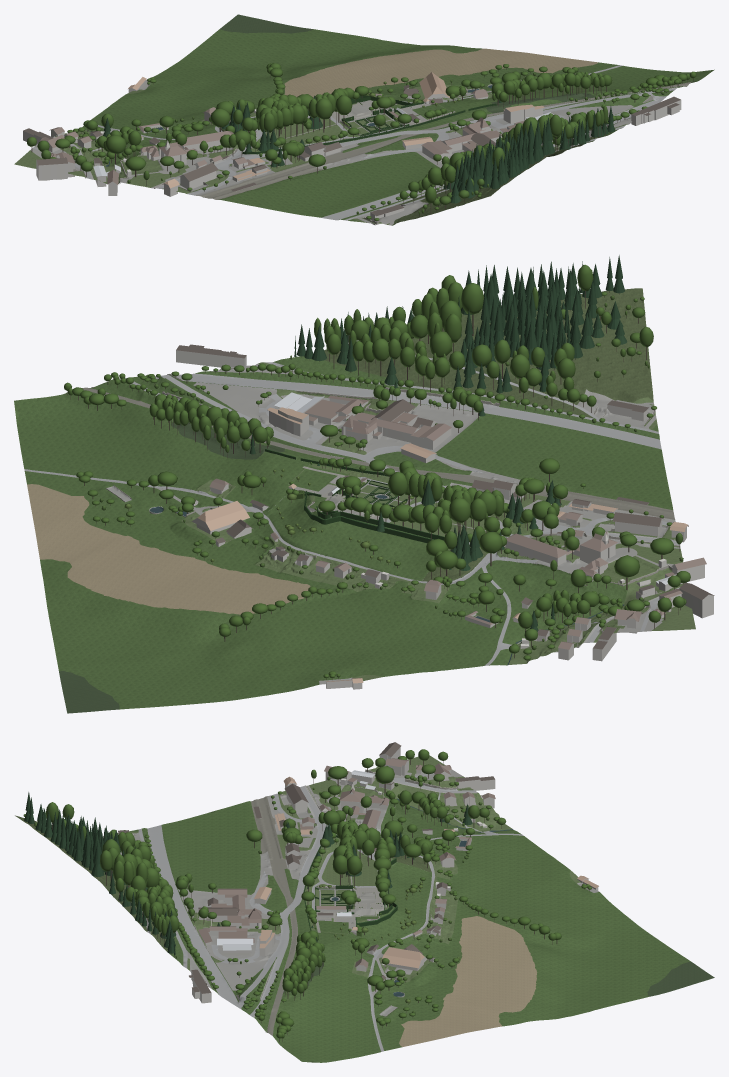
3 views of the same model, one above another, from view 1: azimuth 30°, elevation 25°; view 2: azimuth 150°, elevation 25°; view 3: azimuth 270°, elevation 25° (orthographic). The views are drawn at different scales.
Visible parts, largest first — view 1: lohn-ctx-terrain-meadow, lohn-ctx-terrain-field-soil, lohn-ctx-terrain-lawn, lohn-ctx-terrain-asphalt, lohn-ctx-terrain-gravel, lohn-ctx-terrain-ballast, lohn-ctx-terrain-field-crop, lohn-ctx-terrain-forest-floor, lohn-ctx-terrain-cobbles, lohn-ctx-bldg-egid-1412560-wall, lohn-ctx-bldg-egid-1411796-wall, lohn-ctx-hedge-1 (+5 smaller); view 2: lohn-ctx-terrain-meadow, lohn-ctx-terrain-field-soil, lohn-ctx-terrain-lawn, lohn-ctx-terrain-forest-floor, lohn-ctx-terrain-asphalt, lohn-ctx-terrain-gravel, lohn-ctx-terrain-field-crop, lohn-ctx-terrain-ballast, lohn-ctx-bldg-egid-1411722-roof, lohn-ctx-bldg-egid-502114511-roof, lohn-ctx-bldg-egid-1412560-wall, lohn-ctx-bldg-egid-1411738-roof (+1 smaller); view 3: lohn-ctx-terrain-meadow, lohn-ctx-terrain-field-soil, lohn-ctx-terrain-asphalt, lohn-ctx-terrain-lawn, lohn-ctx-terrain-gravel, lohn-ctx-terrain-ballast, lohn-ctx-terrain-field-crop, lohn-ctx-terrain-forest-floor, lohn-ctx-terrain-cobbles, lohn-ctx-bldg-egid-1411722-roof, lohn-ctx-terrain-under-building, lohn-ctx-bldg-egid-502114511-roof.
Boxes of the visible parts, x1,y1,x2,y2 form: lohn-ctx-terrain-meadow: (82, 29, 714, 221); lohn-ctx-terrain-field-soil: (284, 48, 597, 97); lohn-ctx-terrain-lawn: (14, 85, 627, 225); lohn-ctx-terrain-asphalt: (33, 65, 676, 220); lohn-ctx-terrain-gravel: (30, 79, 633, 225); lohn-ctx-terrain-ballast: (200, 81, 691, 199); lohn-ctx-terrain-field-crop: (220, 14, 597, 113); lohn-ctx-terrain-forest-floor: (221, 124, 609, 224); lohn-ctx-terrain-cobbles: (285, 97, 455, 138); lohn-ctx-bldg-egid-1412560-wall: (631, 100, 681, 125); lohn-ctx-bldg-egid-1411796-wall: (36, 159, 67, 180); lohn-ctx-hedge-1: (242, 110, 465, 154); lohn-ctx-terrain-meadow: (14, 356, 673, 709); lohn-ctx-terrain-field-soil: (27, 484, 310, 614); lohn-ctx-terrain-lawn: (181, 362, 695, 680); lohn-ctx-terrain-forest-floor: (324, 288, 653, 581); lohn-ctx-terrain-asphalt: (24, 355, 679, 665); lohn-ctx-terrain-gravel: (107, 363, 680, 684); lohn-ctx-terrain-field-crop: (59, 422, 284, 713); lohn-ctx-terrain-ballast: (82, 387, 675, 519); lohn-ctx-bldg-egid-1411722-roof: (197, 501, 249, 530); lohn-ctx-bldg-egid-502114511-roof: (305, 395, 369, 422); lohn-ctx-bldg-egid-1412560-wall: (176, 347, 246, 367); lohn-ctx-bldg-egid-1411738-roof: (343, 415, 419, 436); lohn-ctx-terrain-meadow: (130, 793, 690, 1062); lohn-ctx-terrain-field-soil: (399, 916, 537, 1046); lohn-ctx-terrain-asphalt: (138, 769, 523, 1051); lohn-ctx-terrain-lawn: (129, 755, 580, 982); lohn-ctx-terrain-gravel: (103, 770, 598, 1016); lohn-ctx-terrain-ballast: (251, 796, 297, 1035); lohn-ctx-terrain-field-crop: (283, 858, 714, 996); lohn-ctx-terrain-forest-floor: (15, 815, 431, 951); lohn-ctx-terrain-cobbles: (316, 876, 386, 932); lohn-ctx-bldg-egid-1411722-roof: (381, 947, 424, 968); lohn-ctx-terrain-under-building: (199, 781, 476, 971); lohn-ctx-bldg-egid-502114511-roof: (198, 926, 254, 943).
Size of the model in its own units: 696 by 153 by 696.
Materials: 28 (13 with a texture image).
